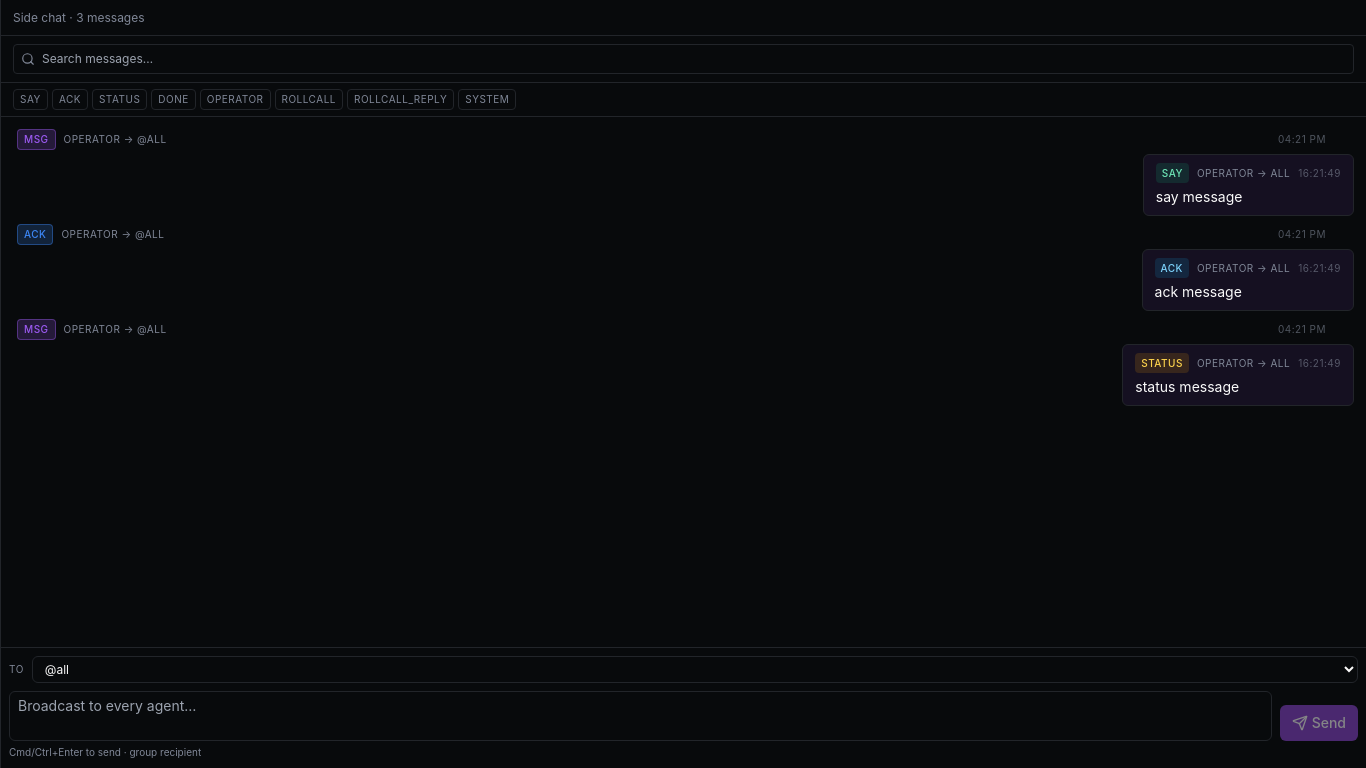
Test: SideChat kind-filter pills › allows multiple kind filters simultaneously
Click the button "SAY" at (30, 100), box 13,89 -> 48,110
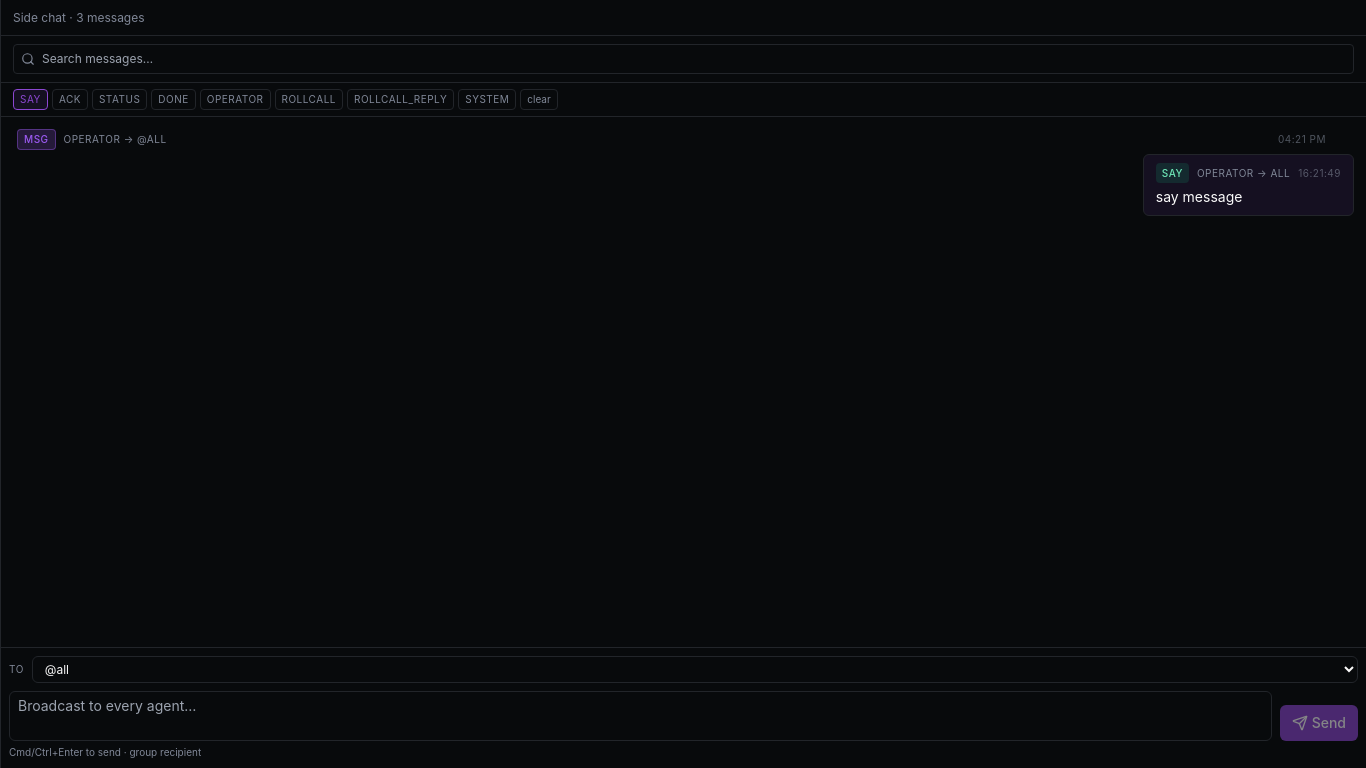
Click the button "ACK" at (70, 100), box 52,89 -> 88,110
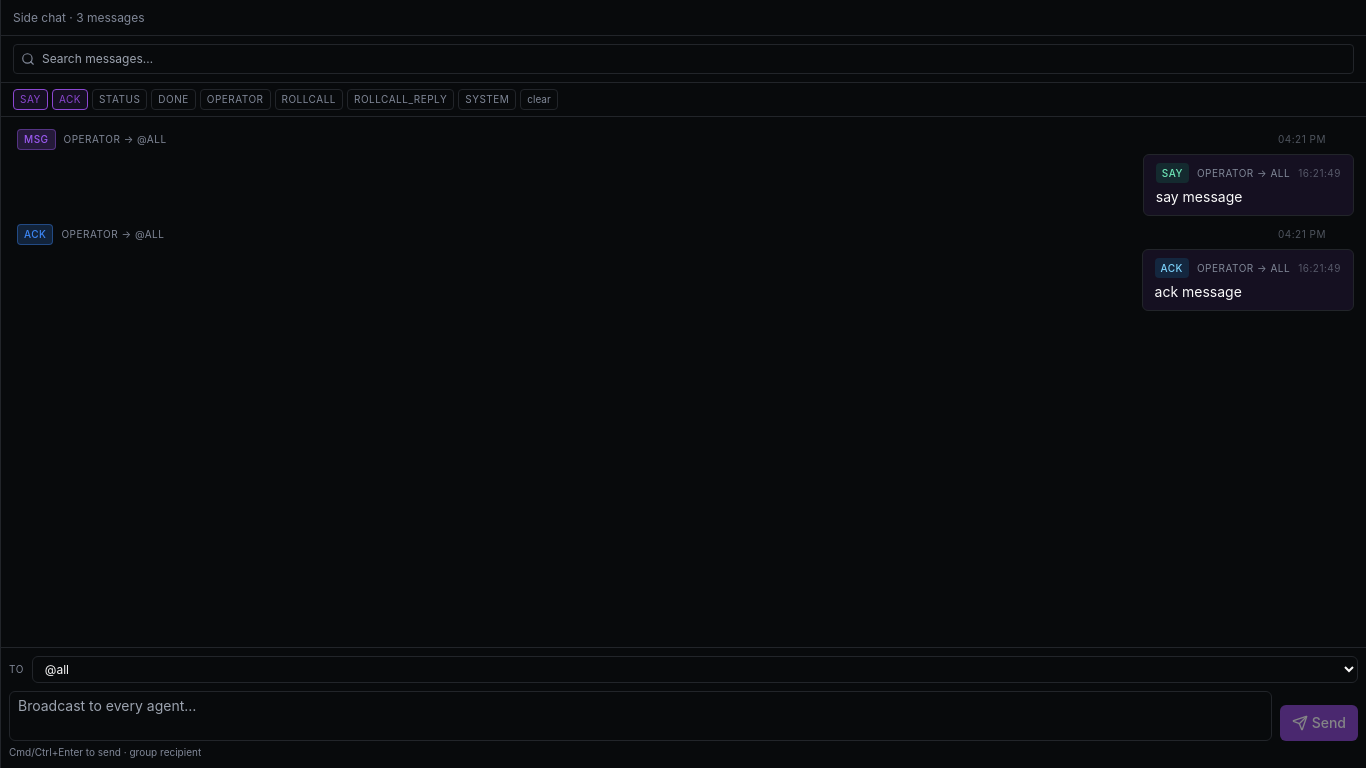
Expected: the text "status message" is not shown
Expected: the text "ack message" is shown, 1154,283 -> 1242,300
